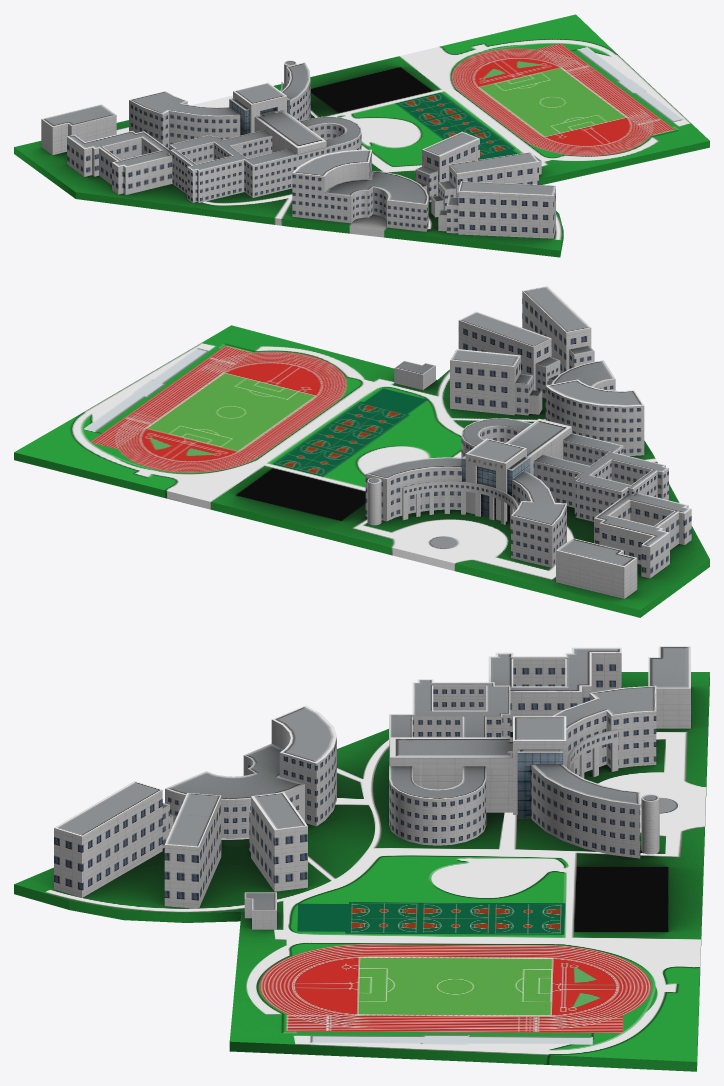
Rendered from yazx.gltf.
The picture shows the model from 3 angles, top to bottom: view 1: azimuth 30°, elevation 25°; view 2: azimuth 150°, elevation 25°; view 3: azimuth 270°, elevation 25°; orthographic projection. The views are drawn at different scales.
Parts seen in each view (by area): view 1: pCube1, pCylinder2, polySurface1, pCylinder5, pCube8, pCube19, pCube24, pCube11, pCube16, pCube30, pCube17, pCube25 (+2 smaller); view 2: pCube1, pCylinder2, pCylinder5, polySurface1, pCube19, pCube30, pCube24, pCube11, pCube8, pCylinder3, pCube17, pCube16 (+5 smaller); view 3: pCube1, pCylinder5, pCylinder2, polySurface1, pCube8, pCube19, pCube16, pCube11, pCube30, pCube24, pCube17, pCube25 (+3 smaller).
Boxes of the visible parts, box(x1,y1,x2,y2) form: pCube1: box(14, 14, 709, 257); pCylinder2: box(169, 116, 361, 202); polySurface1: box(292, 149, 428, 231); pCylinder5: box(129, 62, 310, 148); pCube8: box(458, 181, 555, 238); pCube19: box(67, 130, 172, 194); pCube24: box(41, 104, 116, 155); pCube11: box(449, 152, 538, 197); pCube16: box(254, 110, 326, 154); pCube30: box(422, 131, 479, 195); pCube17: box(233, 82, 286, 133); pCube25: box(229, 98, 289, 135); pCube1: box(14, 325, 709, 617); pCylinder2: box(461, 418, 668, 521); pCylinder5: box(365, 457, 566, 567); polySurface1: box(545, 360, 644, 456); pCube19: box(594, 492, 691, 578); pCube30: box(450, 349, 520, 415); pCube24: box(556, 538, 637, 598); pCube11: box(458, 311, 551, 390); pCube8: box(522, 286, 591, 373); pCylinder3: box(402, 481, 518, 529); pCube17: box(465, 438, 526, 521); pCube16: box(506, 418, 571, 475); pCube1: box(14, 672, 709, 1071); pCylinder5: box(531, 685, 656, 858); pCylinder2: box(389, 679, 510, 845); polySurface1: box(165, 705, 336, 838); pCube8: box(54, 781, 162, 897); pCube19: box(488, 647, 621, 731); pCube16: box(390, 737, 512, 812); pCube11: box(164, 793, 221, 908); pCube30: box(251, 792, 307, 891); pCube24: box(648, 646, 690, 728); pCube17: box(513, 716, 566, 814); pCube25: box(517, 749, 562, 818).
Size of the model in its own units: 21.57 by 2.16 by 16.27.
2 materials, 2 textured.
